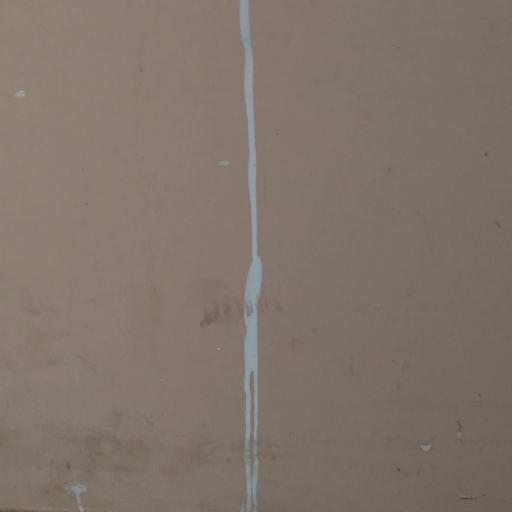stain: (197, 0, 307, 512), (52, 460, 115, 512)
